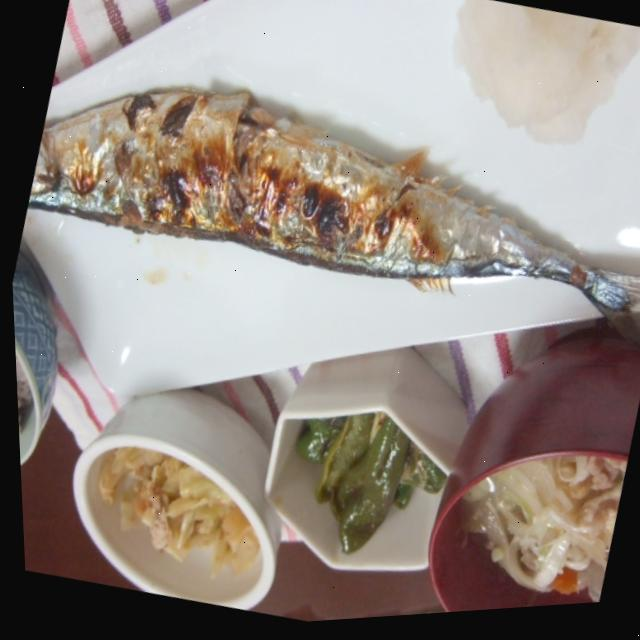熟制海鲜: (13, 68, 640, 398)
